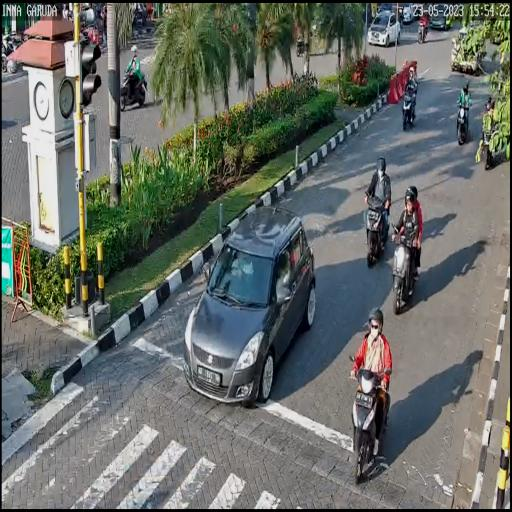mobil: (184, 199, 318, 413)
motor: (341, 344, 394, 486), (390, 218, 420, 313), (361, 186, 391, 268), (454, 94, 472, 144), (402, 86, 416, 132)
